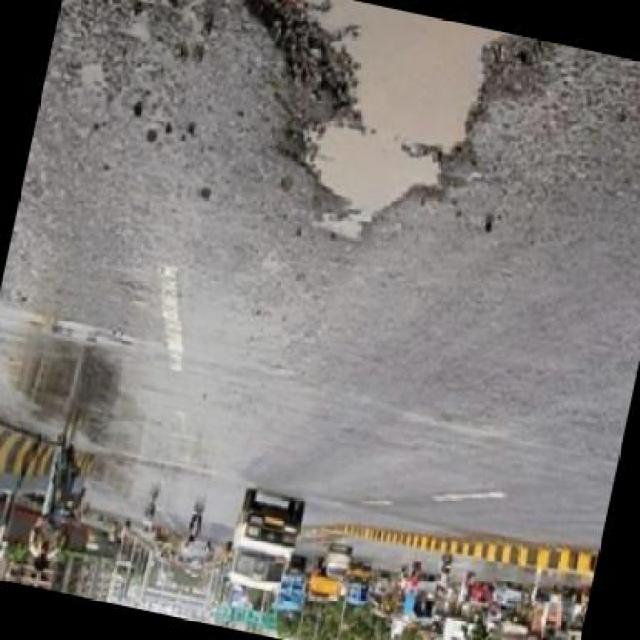pothole1: (198, 0, 557, 263)
